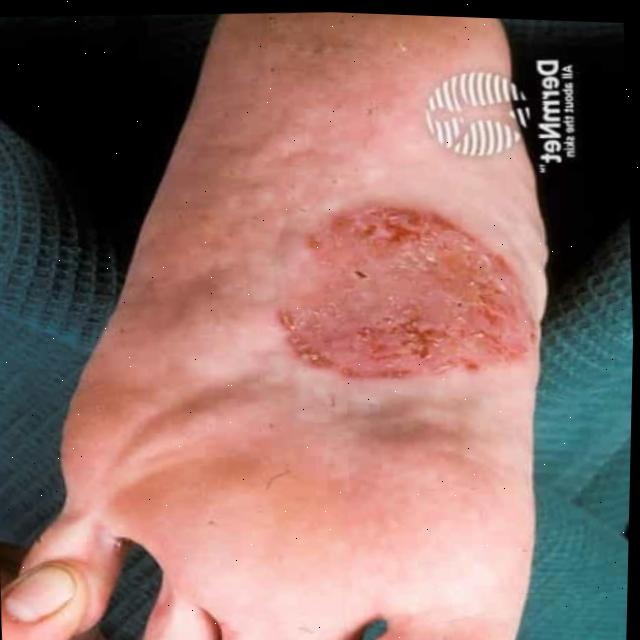Eczema: (281, 195, 539, 385)
